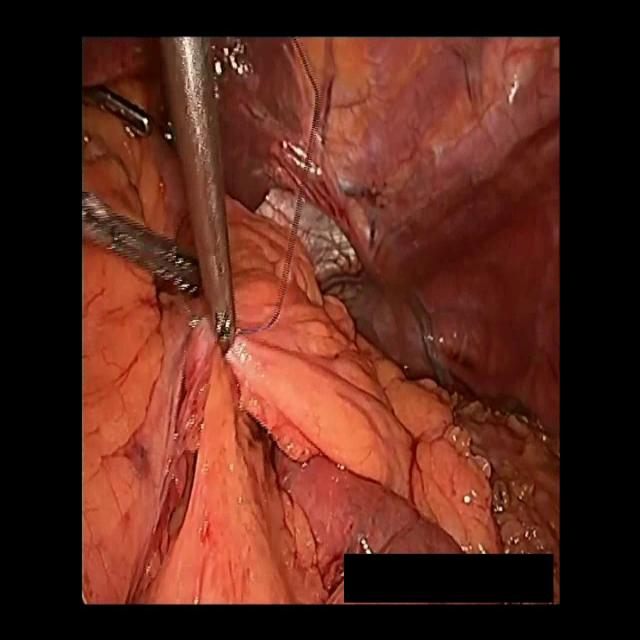surgical-area: (82, 39, 559, 604)
surgical-tool: (152, 39, 234, 353)
